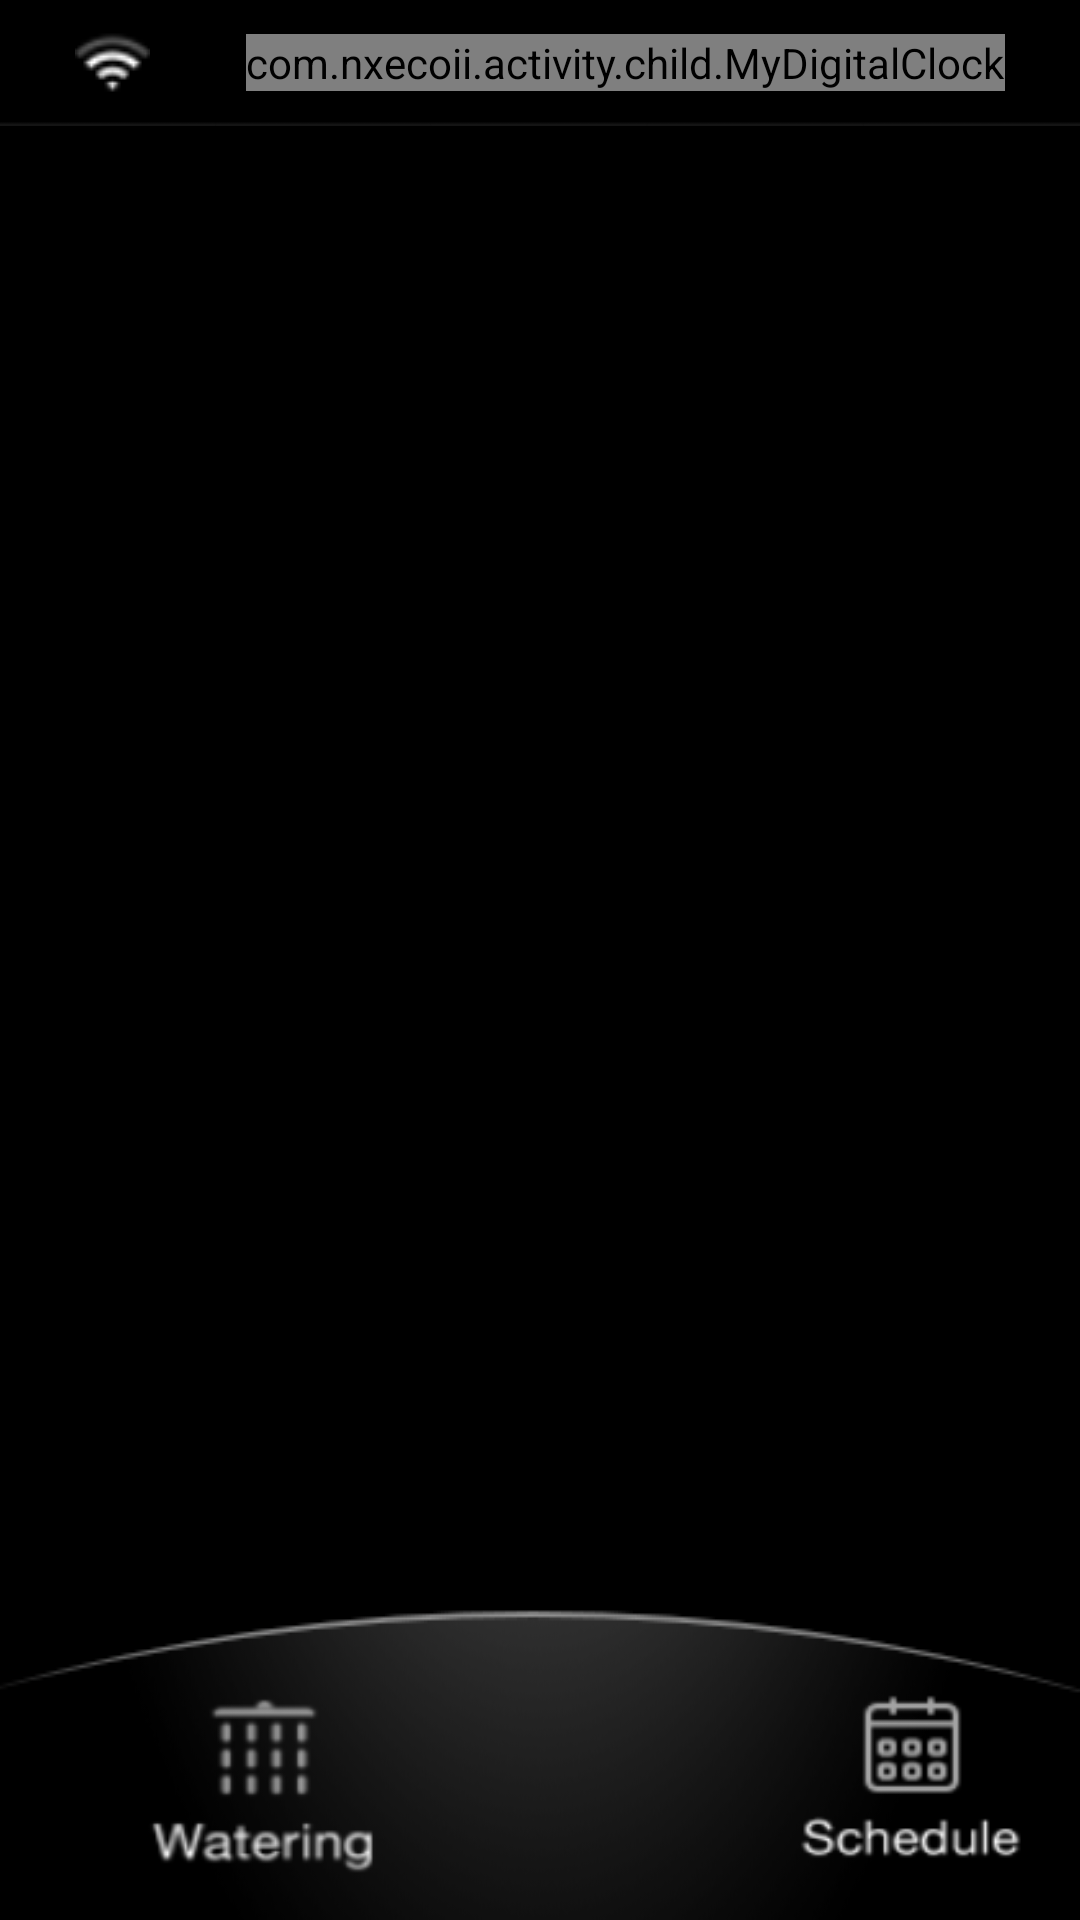

Icons on this 1080x1920 Android screen, each with its box as (x1, y1, x2, y2):
wifi: (75, 36, 150, 92)
